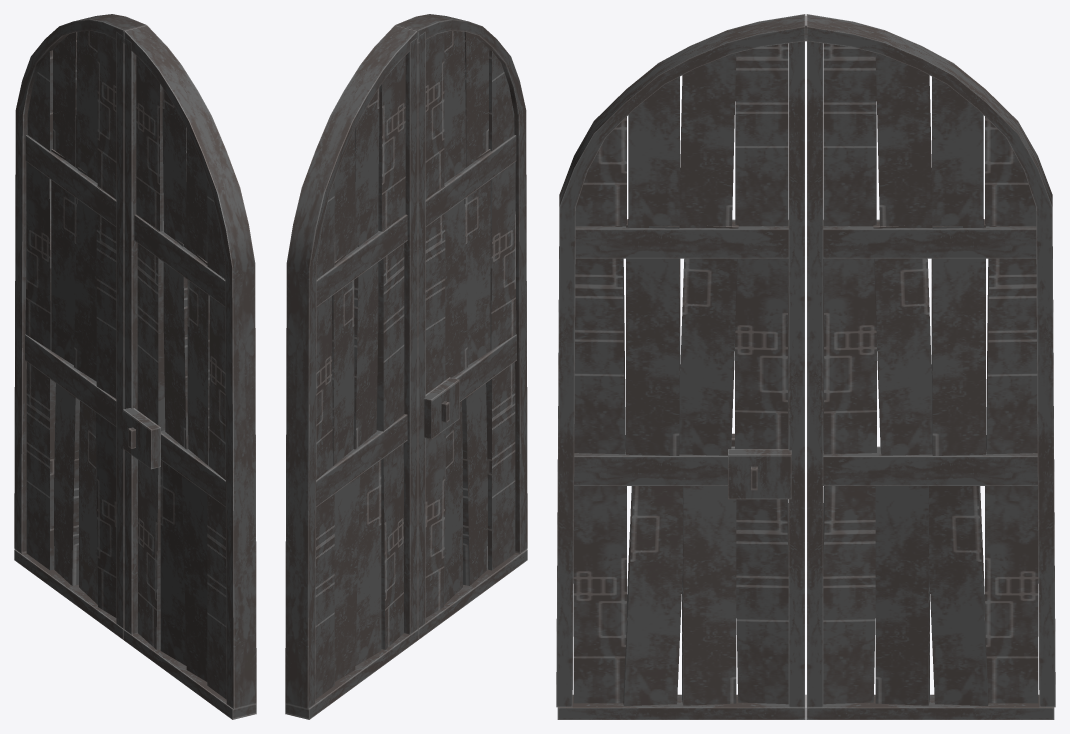
Rendered from Prop_WoodGate.fbx.
3 views of the same model, side by side, from view 1: azimuth 30°, elevation 25°; view 2: azimuth 150°, elevation 25°; view 3: azimuth 270°, elevation 25° (orthographic). The views are drawn at different scales.
Visible parts, largest first — view 1: CDTMesh_Door1a, CDTMesh_Door2b, CDTMesh_Door2a, CDTMesh_Door1b; view 2: CDTMesh_Door2b, CDTMesh_Door1a, CDTMesh_Door1b, CDTMesh_Door2a; view 3: CDTMesh_Door1a, CDTMesh_Door2b, CDTMesh_Door2a, CDTMesh_Door1b.
Boxes of the visible parts, x1,y1,x2,y2 form: CDTMesh_Door1a: [25, 30, 116, 617]; CDTMesh_Door2b: [136, 56, 226, 699]; CDTMesh_Door2a: [123, 25, 256, 719]; CDTMesh_Door1b: [14, 14, 146, 639]; CDTMesh_Door2b: [425, 30, 516, 617]; CDTMesh_Door1a: [315, 56, 405, 699]; CDTMesh_Door1b: [285, 25, 418, 719]; CDTMesh_Door2a: [395, 14, 527, 639]; CDTMesh_Door1a: [823, 43, 1038, 705]; CDTMesh_Door2b: [573, 43, 788, 705]; CDTMesh_Door2a: [556, 14, 805, 719]; CDTMesh_Door1b: [806, 14, 1055, 719].
Size of what is drawn, in the model's own units: 0.3151 by 3.82 by 2.5.
Materials: 1 (1 with a texture image).
